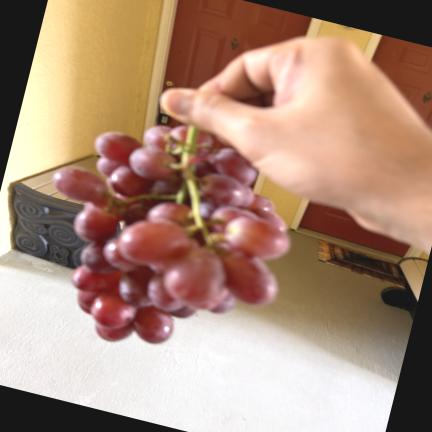grape_cluster: (53, 125, 289, 343)
